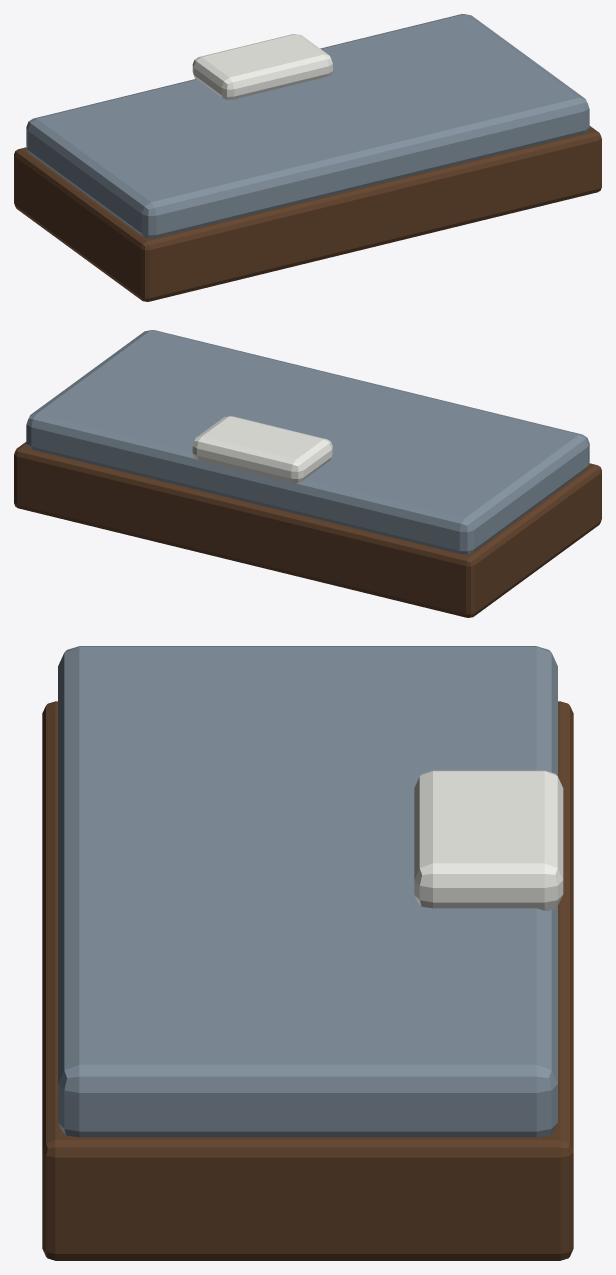
File: bed_single.glb
The picture shows the model from 3 angles, top to bottom: view 1: azimuth 30°, elevation 25°; view 2: azimuth 150°, elevation 25°; view 3: azimuth 270°, elevation 25°; orthographic projection. The views are drawn at different scales.
Parts seen in each view (by area): view 1: bed_single; view 2: bed_single; view 3: bed_single.
Boxes of the visible parts, left/top/right/bottom form: bed_single: left=14, top=14, right=601, bottom=301; bed_single: left=14, top=330, right=601, bottom=617; bed_single: left=42, top=646, right=573, bottom=1260.
Bounding box in the file's own units: 2 × 0.465 × 1.
